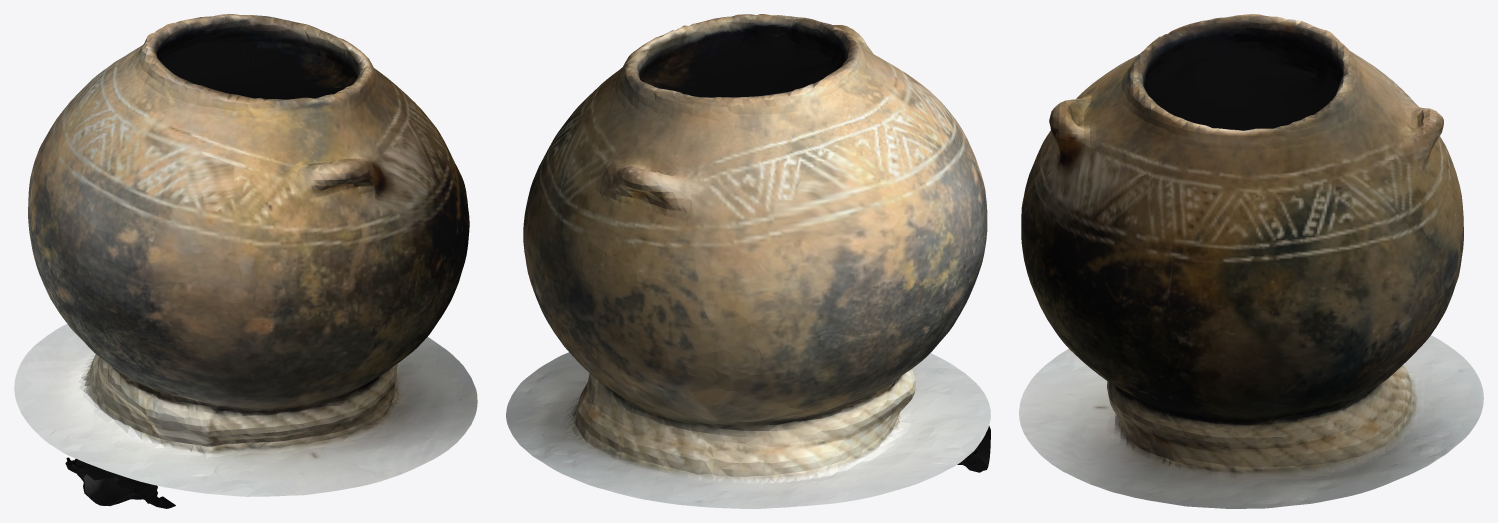
3 views of the same model, side by side, from view 1: azimuth 30°, elevation 25°; view 2: azimuth 150°, elevation 25°; view 3: azimuth 270°, elevation 25° (orthographic). The views are drawn at different scales.
Size of the model in its own units: 0.2057 by 0.1879 by 0.2057.
Materials: 1 (1 with a texture image).
